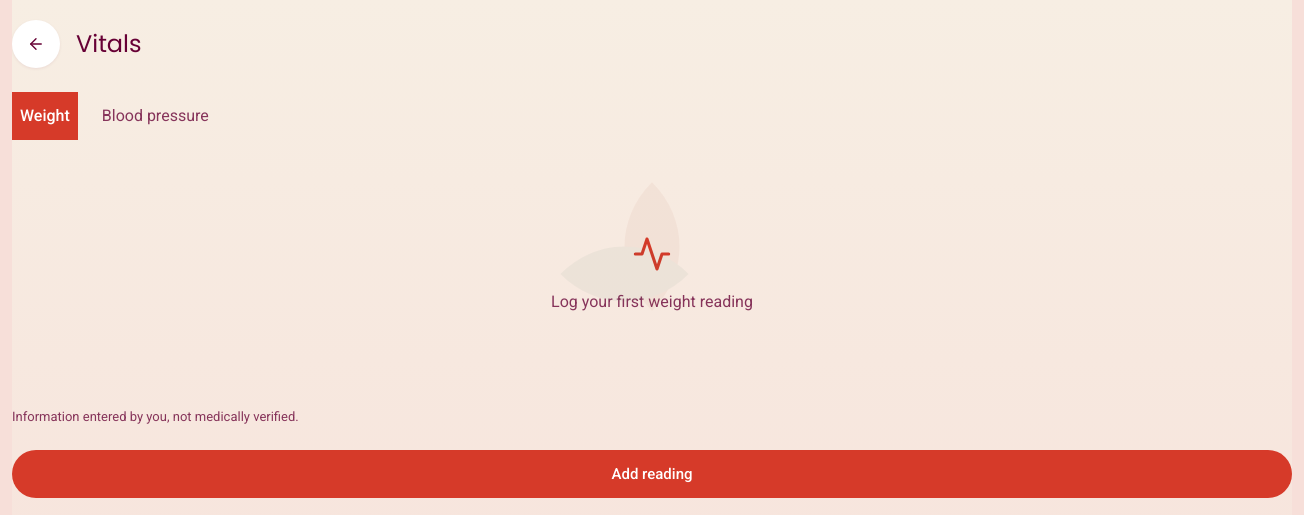
Test: VitalsScreen › switches to the blood-pressure tab and shows its own empty chart message
Click the tab "Blood pressure" at (155, 116), box [94, 92, 217, 140]
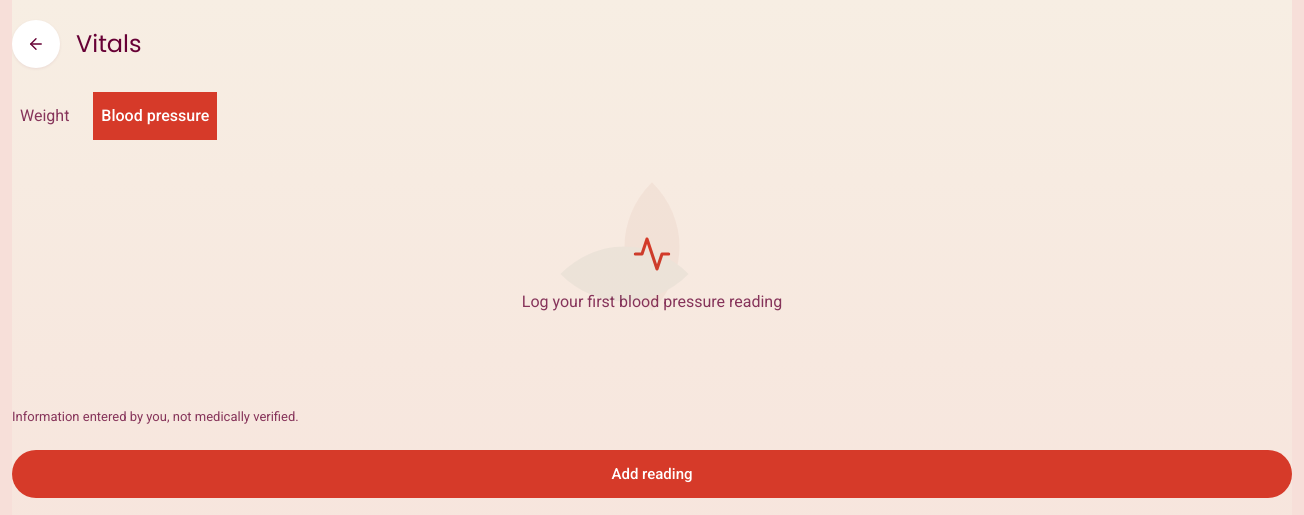
Expected: the text "Log your first blood pressure reading" is shown, [522, 290, 782, 314]
